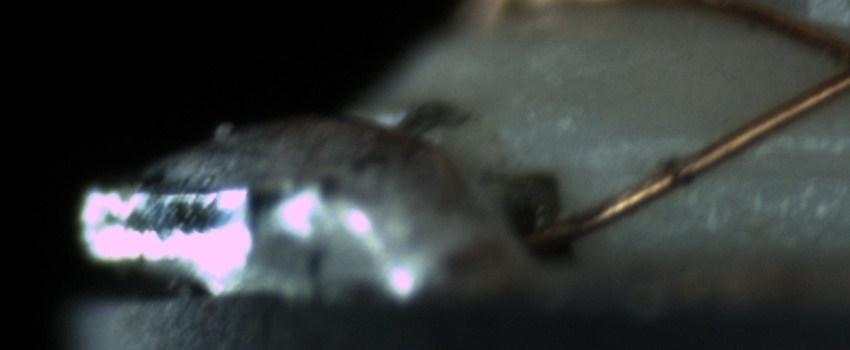CL: (805, 13, 850, 106)
DL: (614, 119, 849, 189)
